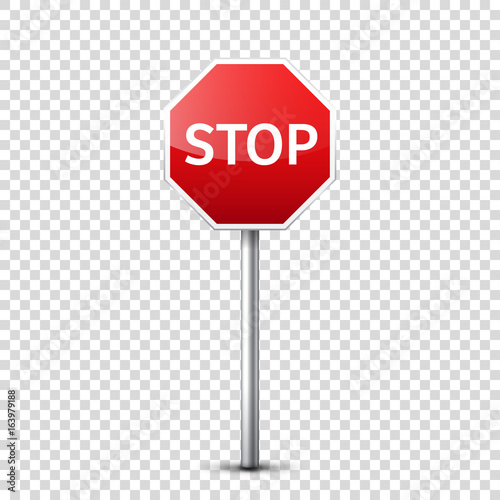StopSign: (163, 59, 335, 229)
